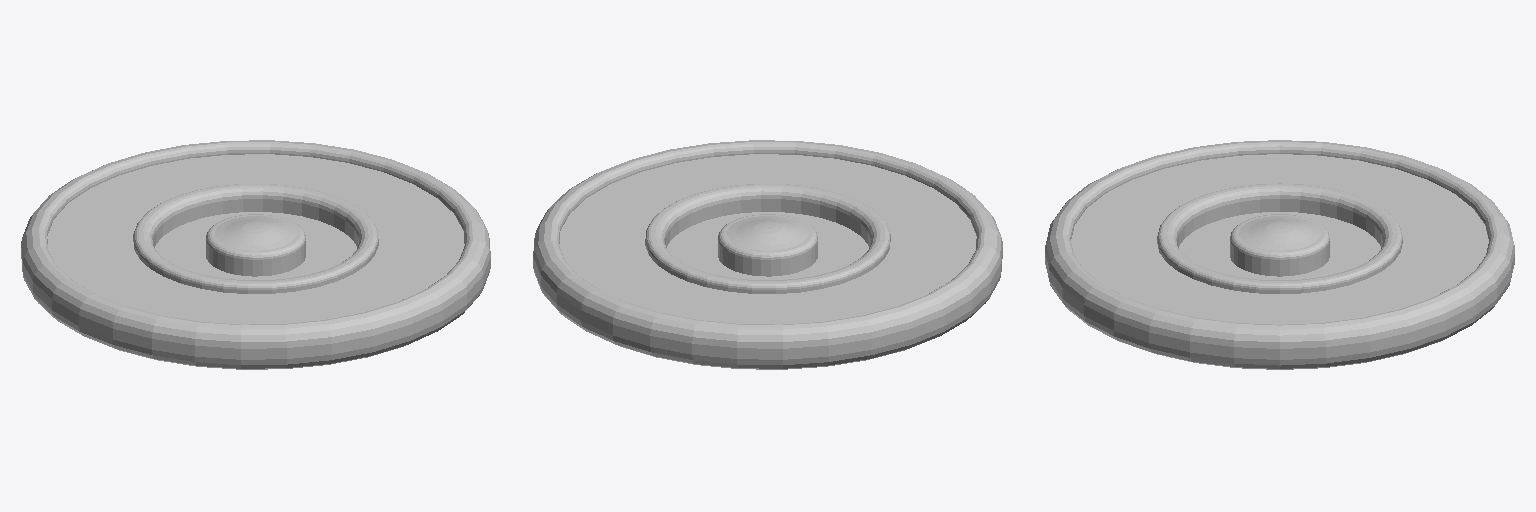
Rendered from coolcircle.obj.
3 views of the same model, side by side, from view 1: azimuth 30°, elevation 25°; view 2: azimuth 150°, elevation 25°; view 3: azimuth 270°, elevation 25° (orthographic).
Visible parts, largest first — view 1: Cylinder; view 2: Cylinder; view 3: Cylinder.
Boxes of the visible parts, x1=… form: Cylinder: x1=21, y1=140, x2=490, y2=369; Cylinder: x1=533, y1=140, x2=1002, y2=369; Cylinder: x1=1045, y1=140, x2=1514, y2=369.
Bounding box in the file's own units: 2 × 0.2687 × 2.